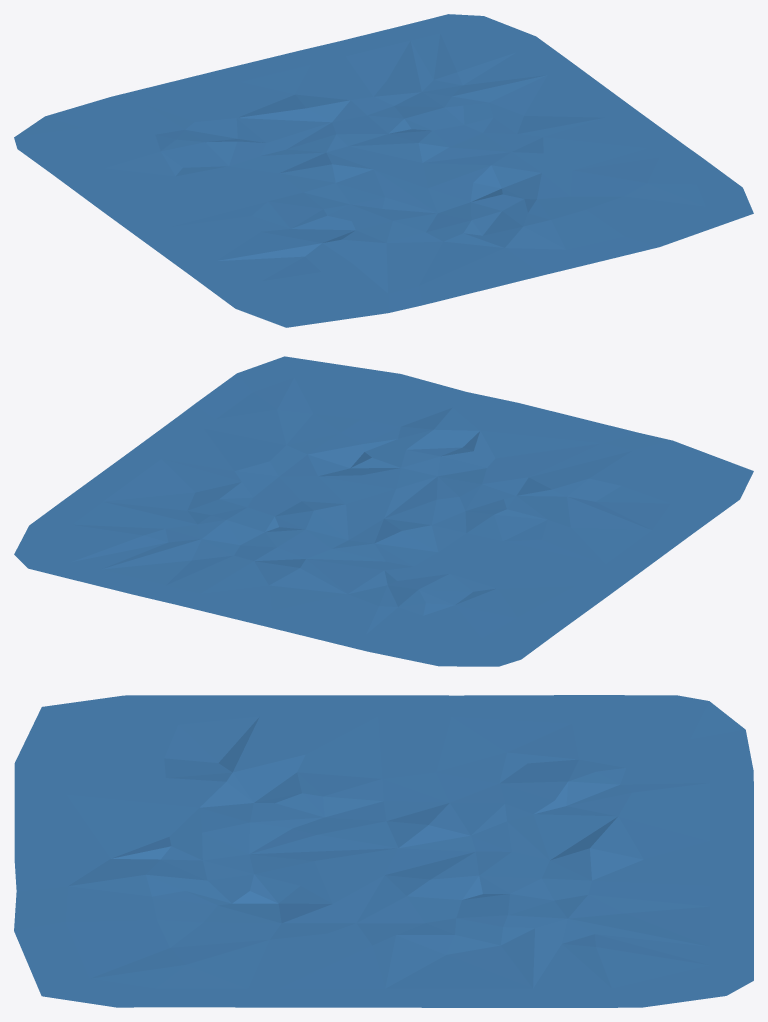
File: Water Type A.fbx
3 views of the same model, one above another, from view 1: azimuth 30°, elevation 25°; view 2: azimuth 150°, elevation 25°; view 3: azimuth 270°, elevation 25° (orthographic). The views are drawn at different scales.
Visible parts, largest first — view 1: Water Type A; view 2: Water Type A; view 3: Water Type A.
Part boxes in pixels (box(x1,y1,x2,y2)): Water Type A: box(14, 14, 753, 327); Water Type A: box(14, 356, 753, 666); Water Type A: box(14, 695, 753, 1007).
Size of the model in its own units: 1985 by 30.67 by 1986.
